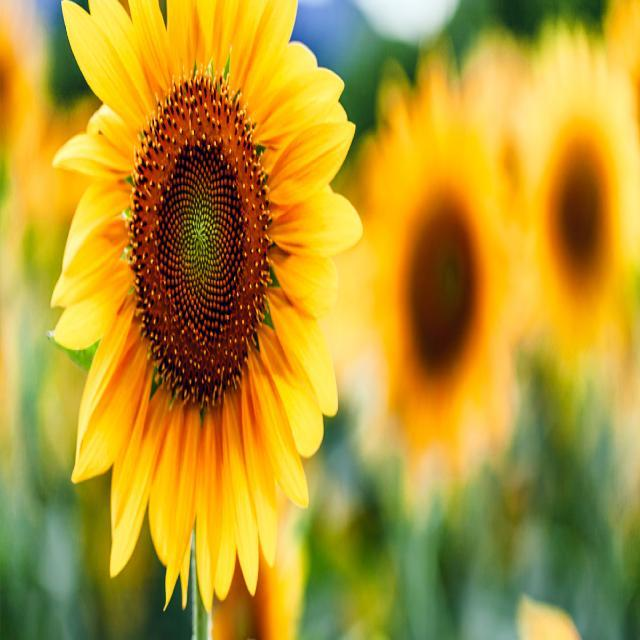sunflower: (46, 0, 364, 614), (351, 56, 524, 487), (509, 17, 639, 370), (470, 34, 535, 222), (209, 503, 295, 640)
